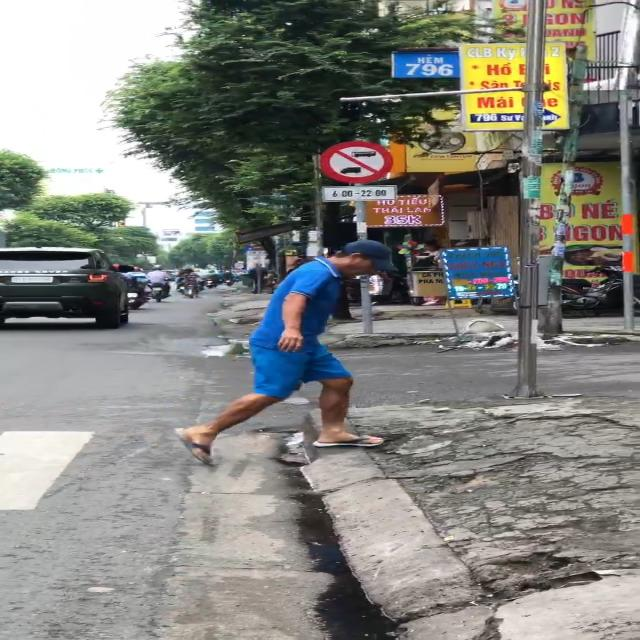Bien bao cam xe oto khach va xe oto tai: (315, 140, 396, 186)
